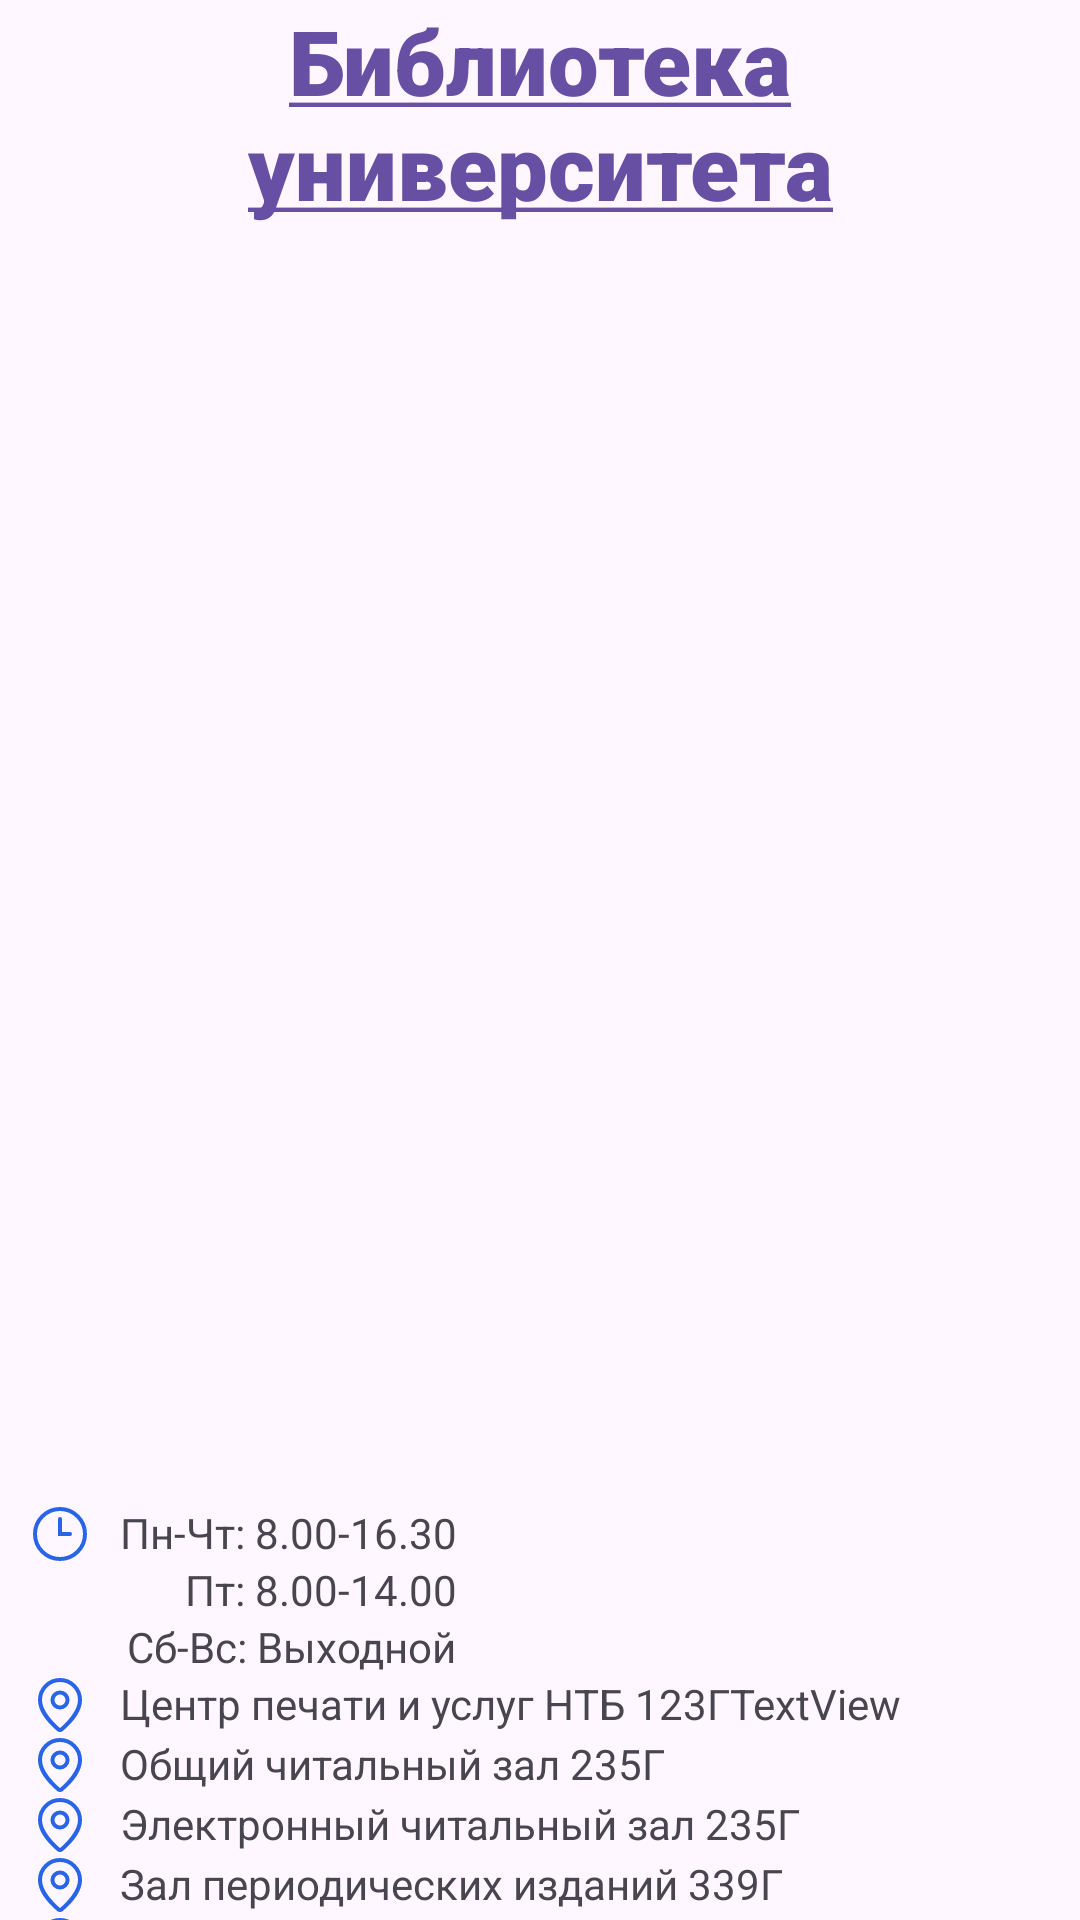

Icons on this 1080*1920 Android screen, each with its box as (x1, y1, x2, y2):
clock: (33, 1507, 87, 1561)
